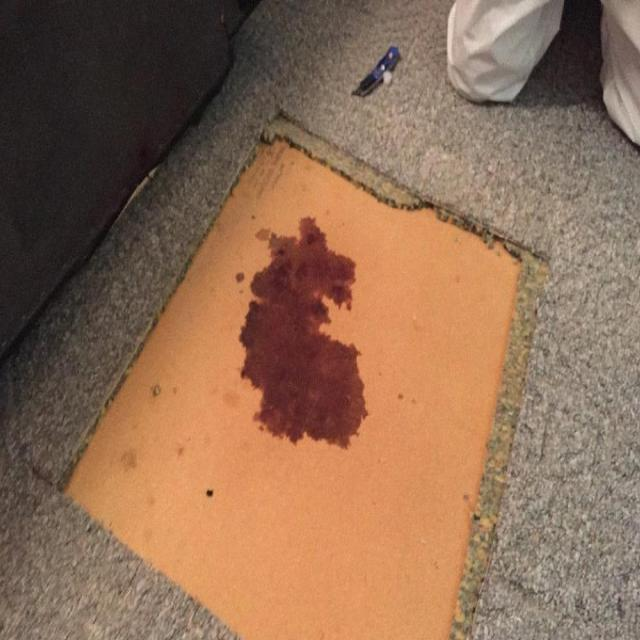flood: (230, 204, 372, 450)
